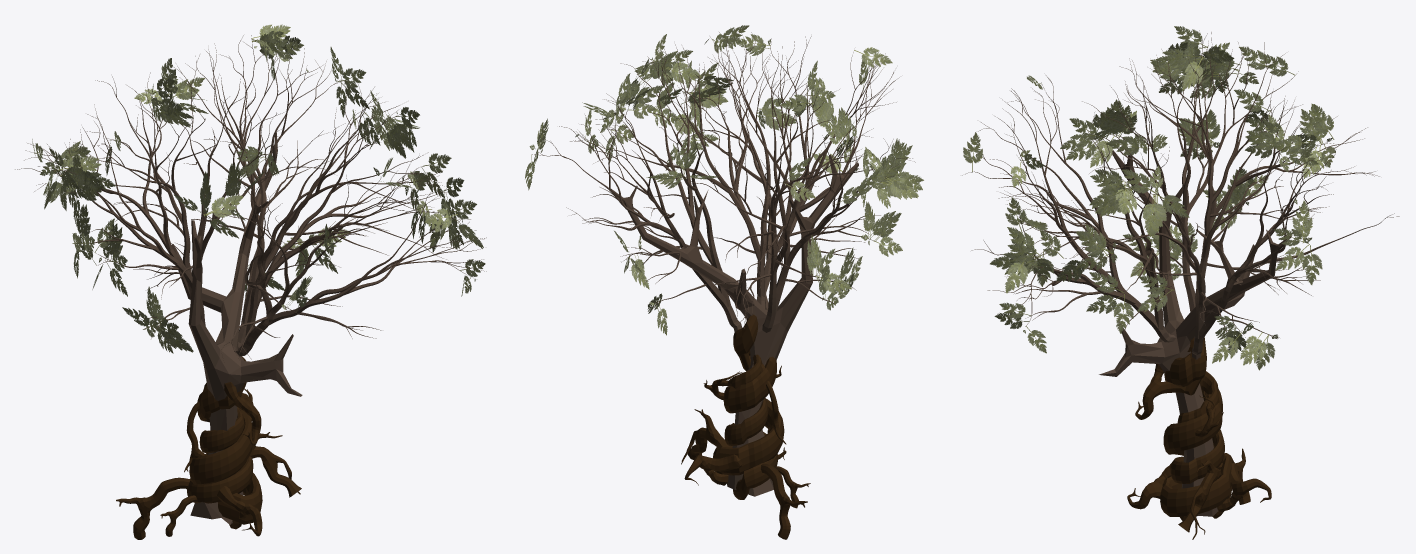
Rendered from ARVORE.fbx.
3 renders of one model, left to right at view 1: azimuth 30°, elevation 25°; view 2: azimuth 150°, elevation 25°; view 3: azimuth 270°, elevation 25°, orthographic. The views are drawn at different scales.
Visible parts, largest first — view 1: tree, Spiral.001, Spiral, Root3, Root1, Root2, Root2.002; view 2: tree, Spiral.001, Spiral, Root2.001, Root3, Root1; view 3: tree, Spiral.001, Spiral, Root2.002, Root1, Root2.001, Root2.
Part boxes in pixels (x1,y1,x2,y2): tree: (15,35,486,524); Spiral.001: (189,356,262,524); Spiral: (186,383,253,503); Root3: (116,477,190,539); Root1: (249,432,301,497); Root2: (217,486,262,536); Root2.002: (224,382,261,445); tree: (532,30,915,496); Spiral.001: (713,314,784,475); Spiral: (724,354,778,499); Root2.001: (684,454,742,485); Root3: (761,463,807,539); Root1: (681,409,730,464); tree: (962,30,1399,516); Spiral.001: (1160,337,1232,516); Spiral: (1170,371,1231,518); Root2.002: (1135,364,1201,419); Root1: (1178,460,1221,539); Root2.001: (1217,461,1271,512); Root2: (1127,463,1197,520).
Bounding box in the file's own units: 2227 × 2736 × 2233.
12 materials, 1 textured.
